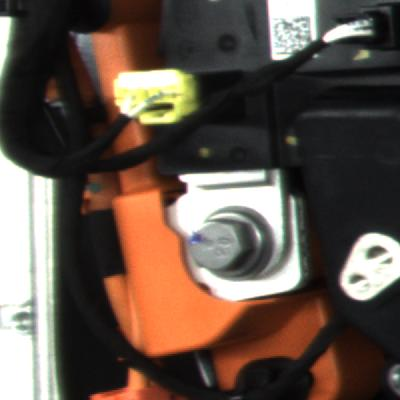nut_b: (185, 198, 277, 286)
